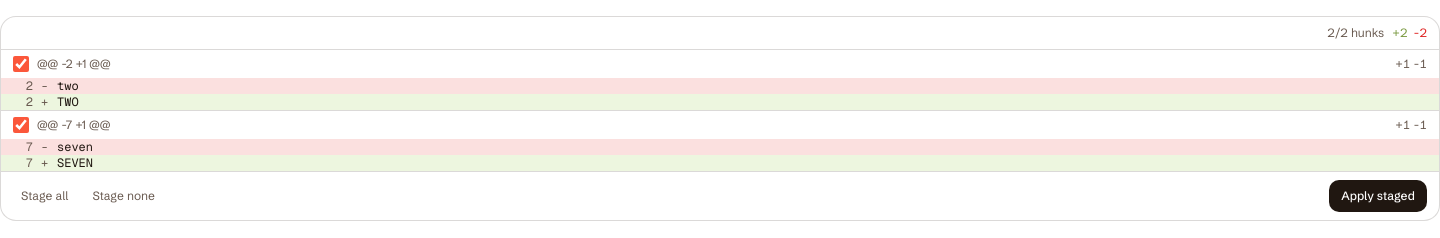
Test: ReviewableDiff › will not apply nothing
Click the button "Stage none": (124, 196) [84,184,163,208]
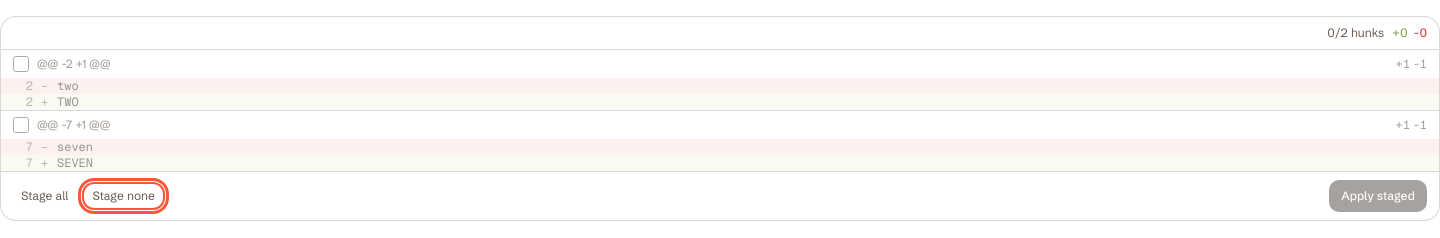
Expected: the button "Apply staged" is disabled, [1329,180,1427,212]
